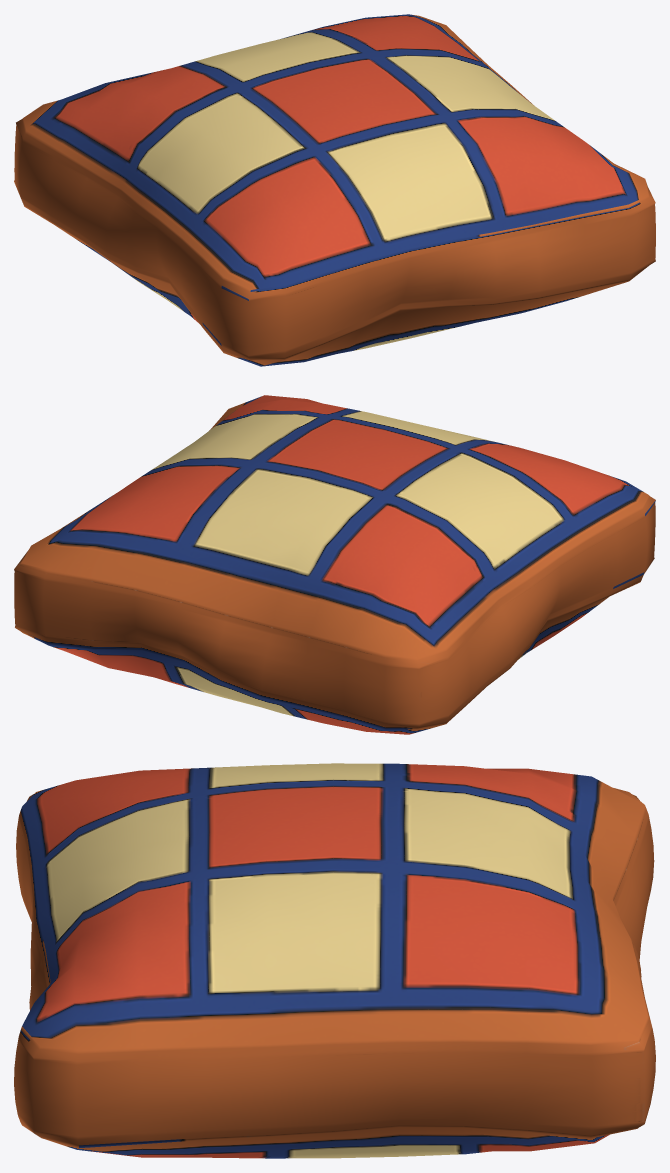
File: pillow3.fbx
3 renders of one model, top to bottom at view 1: azimuth 30°, elevation 25°; view 2: azimuth 150°, elevation 25°; view 3: azimuth 270°, elevation 25°, orthographic. The views are drawn at different scales.
Parts seen in each view (by area): view 1: polySurface2; view 2: polySurface2; view 3: polySurface2.
Boxes of the visible parts, left/top/right/bottom form: polySurface2: left=14, top=14, right=655, bottom=366; polySurface2: left=14, top=395, right=655, bottom=734; polySurface2: left=14, top=763, right=655, bottom=1158.
Bounding box in the file's own units: 14.48 × 7.09 × 14.56.
